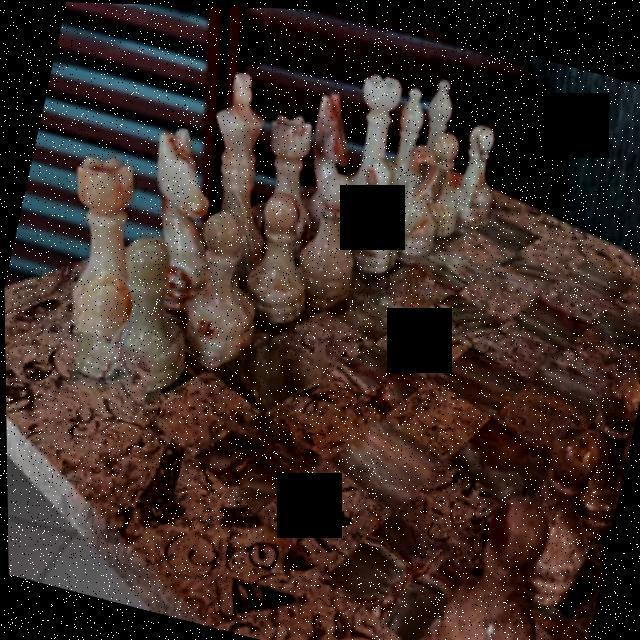chess-table-corners: (60, 331, 154, 422), (410, 159, 461, 206)
